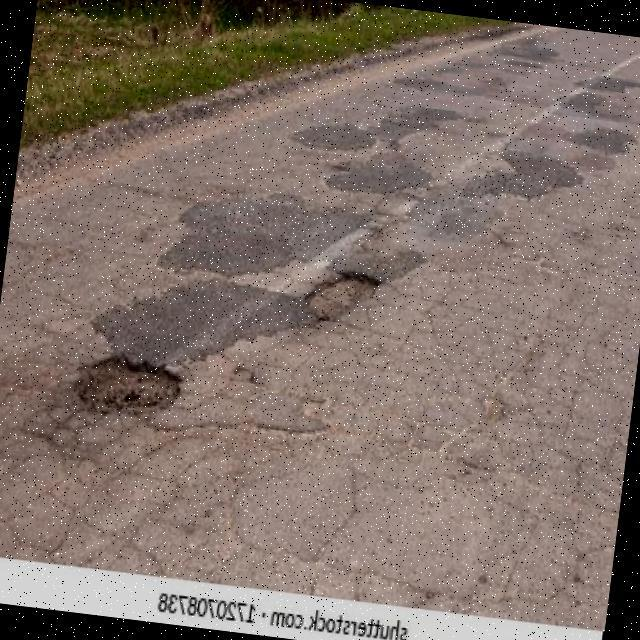Pothole: (88, 365, 180, 413), (304, 280, 376, 321)
